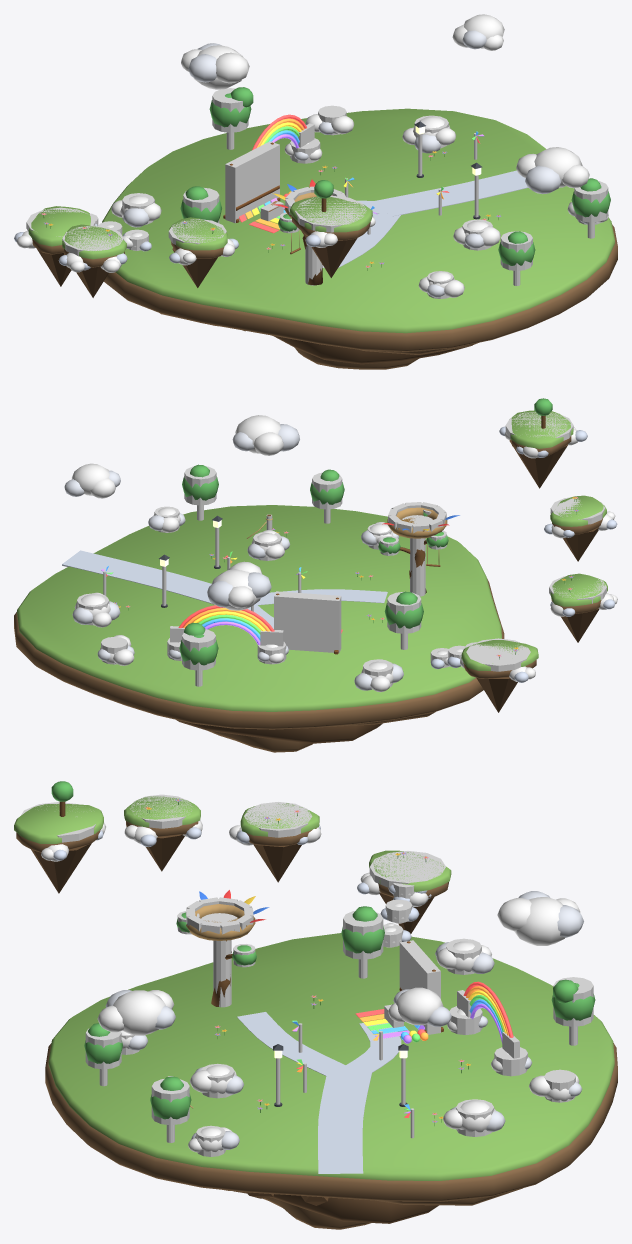
Rendered from nuvens.glb.
3 renders of one model, top to bottom at view 1: azimuth 30°, elevation 25°; view 2: azimuth 150°, elevation 25°; view 3: azimuth 270°, elevation 25°, orthographic. The views are drawn at different scales.
Visible parts, largest first — view 1: chao, cenario, plataforma-4, col-tear-1, plataforma-2, plataforma-3, plataforma-1, col-cil-plataforma-4, col-cil-plataforma-2, col-cil-plataforma-3, col-cil-copa-3, col-cil-copa-2 (+1 smaller); view 2: chao, cenario, col-tear-1, plataforma-4, plataforma-2, plataforma-1, plataforma-3, col-cil-plataforma-1, col-cil-plataforma-4, col-cil-tronco-ninho-1, col-cil-copa-3, col-cil-copa-1 (+3 smaller); view 3: chao, cenario, plataforma-4, plataforma-3, plataforma-2, plataforma-1, col-cil-plataforma-1, col-tear-1, col-cil-plataforma-2, col-cil-plataforma-3, col-cil-tronco-ninho-1, col-cil-copa-1 (+5 smaller).
Boxes of the visible parts, x1=… form: chao: x1=102, y1=108, x2=617, y2=369; cenario: x1=95, y1=14, x2=610, y2=297; plataforma-4: x1=290, y1=180, x2=375, y2=277; col-tear-1: x1=225, y1=141, x2=279, y2=223; plataforma-2: x1=58, y1=224, x2=127, y2=297; plataforma-3: x1=169, y1=217, x2=238, y2=287; plataforma-1: x1=14, y1=206, x2=90, y2=286; col-cil-plataforma-4: x1=295, y1=195, x2=366, y2=232; col-cil-plataforma-2: x1=62, y1=225, x2=123, y2=256; col-cil-plataforma-3: x1=168, y1=219, x2=226, y2=244; col-cil-copa-3: x1=212, y1=88, x2=248, y2=132; col-cil-copa-2: x1=574, y1=181, x2=608, y2=222; chao: x1=14, y1=505, x2=504, y2=752; cenario: x1=62, y1=415, x2=463, y2=692; col-tear-1: x1=274, y1=591, x2=341, y2=652; plataforma-4: x1=499, y1=398, x2=587, y2=488; plataforma-2: x1=550, y1=573, x2=617, y2=642; plataforma-1: x1=460, y1=640, x2=538, y2=712; plataforma-3: x1=544, y1=495, x2=617, y2=561; col-cil-plataforma-1: x1=466, y1=638, x2=530, y2=671; col-cil-plataforma-4: x1=505, y1=412, x2=573, y2=440; col-cil-tronco-ninho-1: x1=410, y1=538, x2=425, y2=596; col-cil-copa-3: x1=182, y1=629, x2=215, y2=670; col-cil-copa-1: x1=387, y1=591, x2=421, y2=633; chao: x1=45, y1=933, x2=617, y2=1229; cenario: x1=84, y1=885, x2=595, y2=1173; plataforma-4: x1=14, y1=781, x2=105, y2=893; plataforma-3: x1=124, y1=796, x2=202, y2=871; plataforma-2: x1=229, y1=803, x2=321, y2=882; plataforma-1: x1=357, y1=850, x2=451, y2=933; col-cil-plataforma-1: x1=369, y1=851, x2=445, y2=887; col-tear-1: x1=399, y1=940, x2=440, y2=1034; col-cil-plataforma-2: x1=244, y1=802, x2=312, y2=837; col-cil-plataforma-3: x1=130, y1=794, x2=192, y2=828; col-cil-tronco-ninho-1: x1=213, y1=940, x2=231, y2=1007; col-cil-copa-1: x1=343, y1=910, x2=383, y2=959.
Size of the model in its own units: 31.47 by 16.63 by 27.
